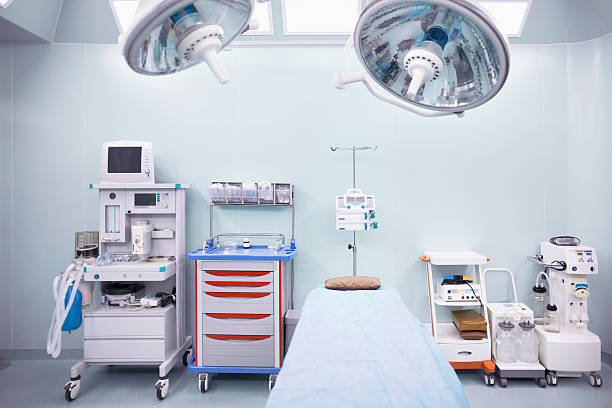bedside_monitor: (101, 142, 151, 178), (135, 193, 163, 210)
breathing_tube: (47, 261, 87, 359)
drawer: (80, 301, 173, 363)
electrosurgical_unit: (439, 272, 482, 302)
iv_pole: (326, 144, 378, 276)
medical_drawer: (186, 234, 299, 393)
operating_bed: (262, 276, 471, 408)
surgical_light: (353, 1, 513, 114), (119, 1, 256, 76)
syringe_pump: (336, 192, 379, 210), (334, 209, 378, 221), (335, 221, 379, 233)
